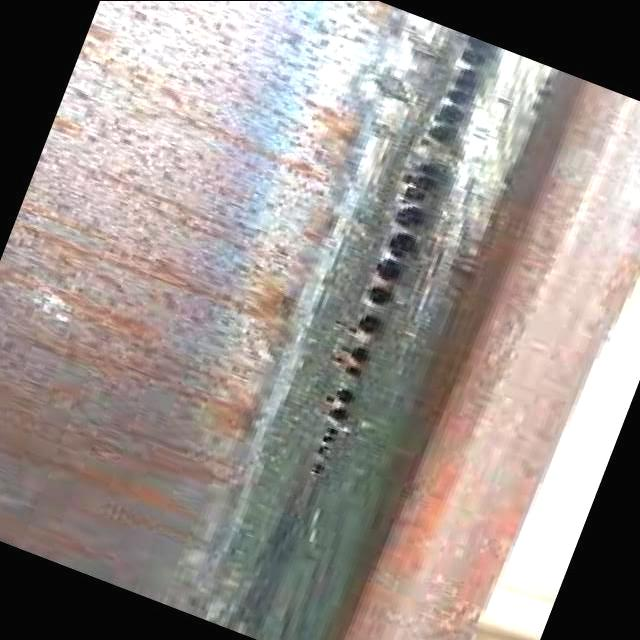defect: (335, 36, 501, 378), (304, 380, 360, 480)
